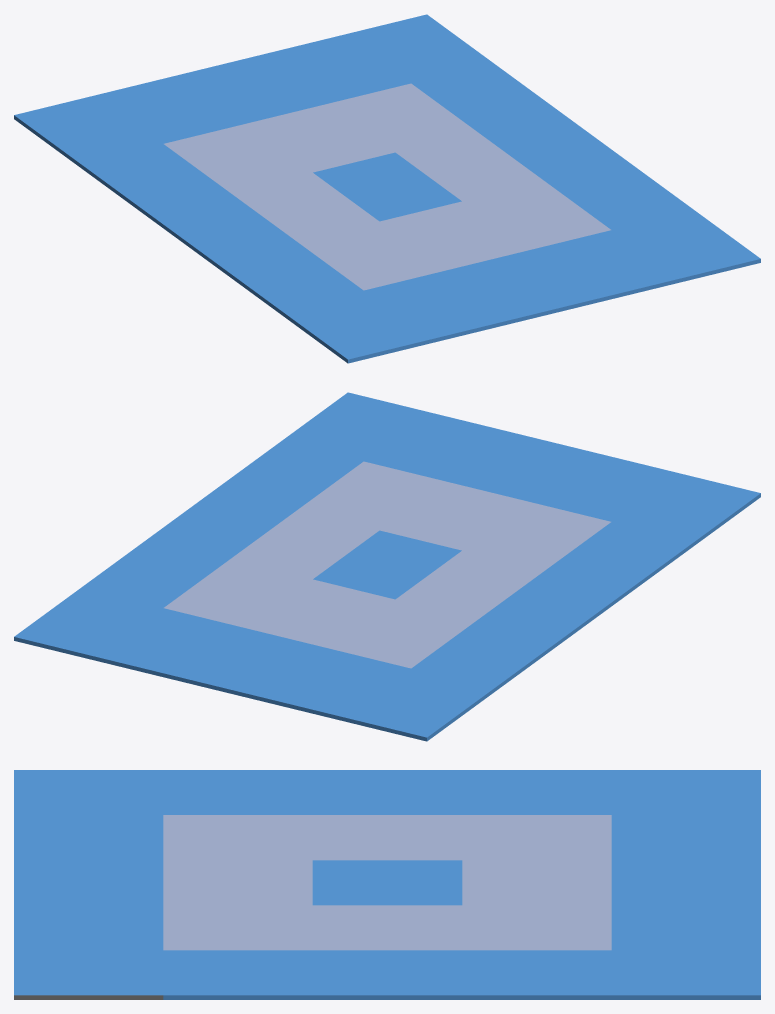
The model's file is BlueMat.fbx.
3 views of the same model, one above another, from view 1: azimuth 30°, elevation 25°; view 2: azimuth 150°, elevation 25°; view 3: azimuth 270°, elevation 25° (orthographic). The views are drawn at different scales.
Parts seen in each view (by area): view 1: Blue_MAT; view 2: Blue_MAT; view 3: Blue_MAT.
Boxes of the visible parts, x1,y1,x2,y2 form: Blue_MAT: [14, 14, 760, 363]; Blue_MAT: [14, 392, 760, 741]; Blue_MAT: [14, 770, 760, 999].
Bounding box in the file's own units: 5.93 × 0.0547 × 8.3.
